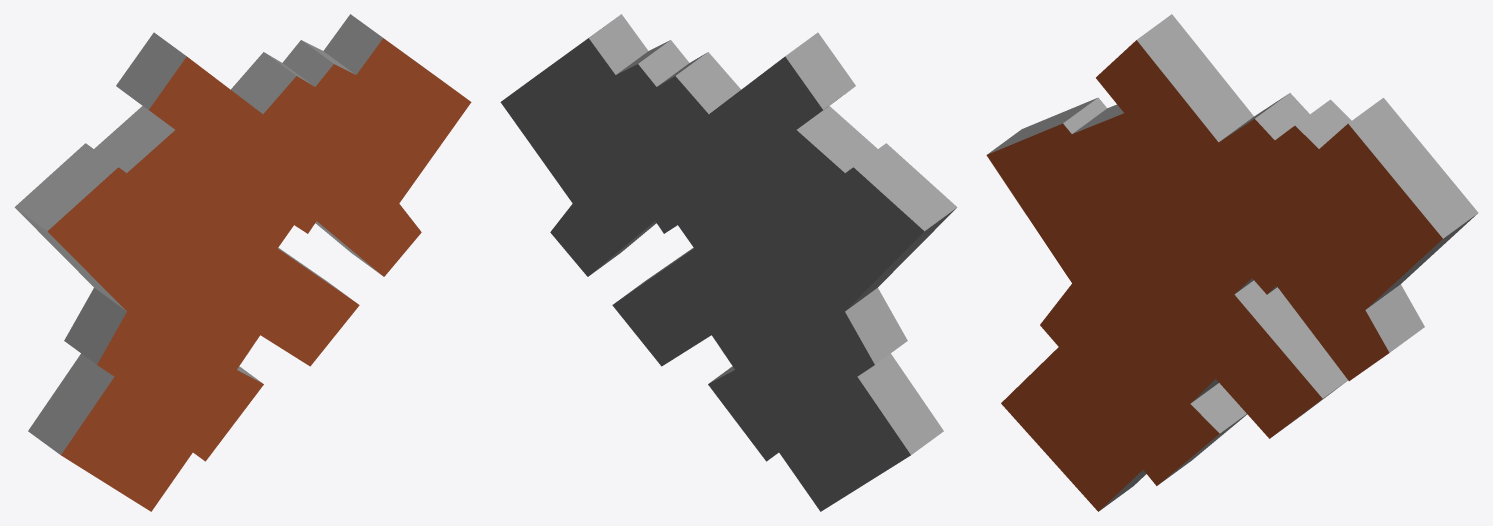
Rendered from construction_2104_assumed_A_Casa_h6m.obj.
3 views of the same model, side by side, from view 1: azimuth 30°, elevation 25°; view 2: azimuth 150°, elevation 25°; view 3: azimuth 330°, elevation 25° (orthographic). The views are drawn at different scales.
Visible parts, largest first — view 1: construction_2104_assumed_A_Casa; view 2: construction_2104_assumed_A_Casa; view 3: construction_2104_assumed_A_Casa.
Boxes of the visible parts, <box> form: construction_2104_assumed_A_Casa: <box>14,14,471,511</box>; construction_2104_assumed_A_Casa: <box>500,14,957,511</box>; construction_2104_assumed_A_Casa: <box>986,14,1478,511</box>.
Bounding box in the file's own units: 44.62 × 44.94 × 6.
